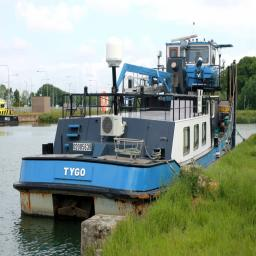tugboat: (13, 21, 241, 227)
